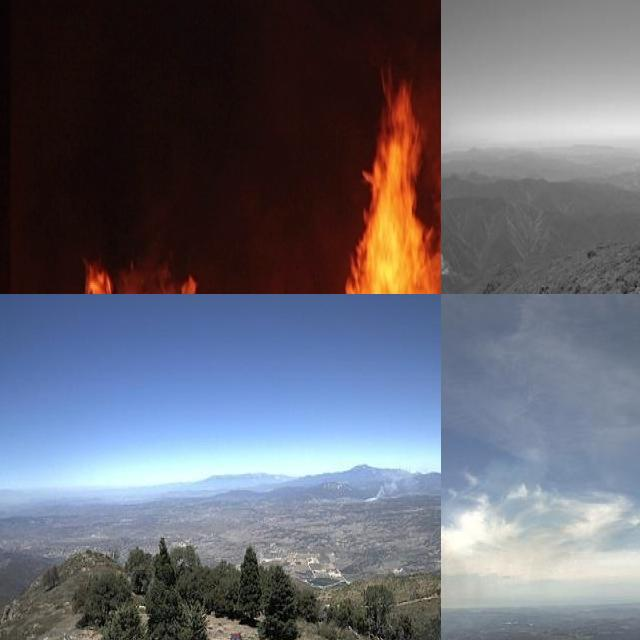fire: (41, 34, 441, 294)
smoke: (361, 464, 435, 500)
